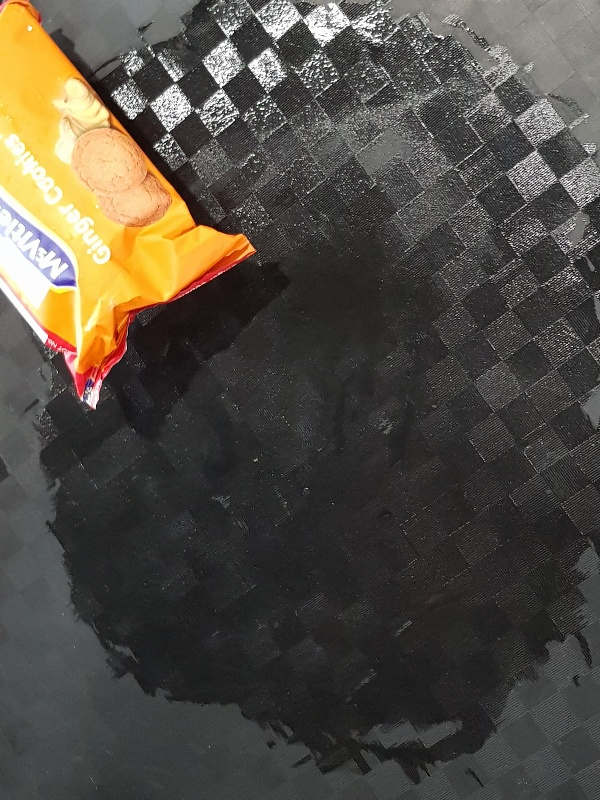McVitie's Ginger Cookies: (1, 1, 255, 410)
